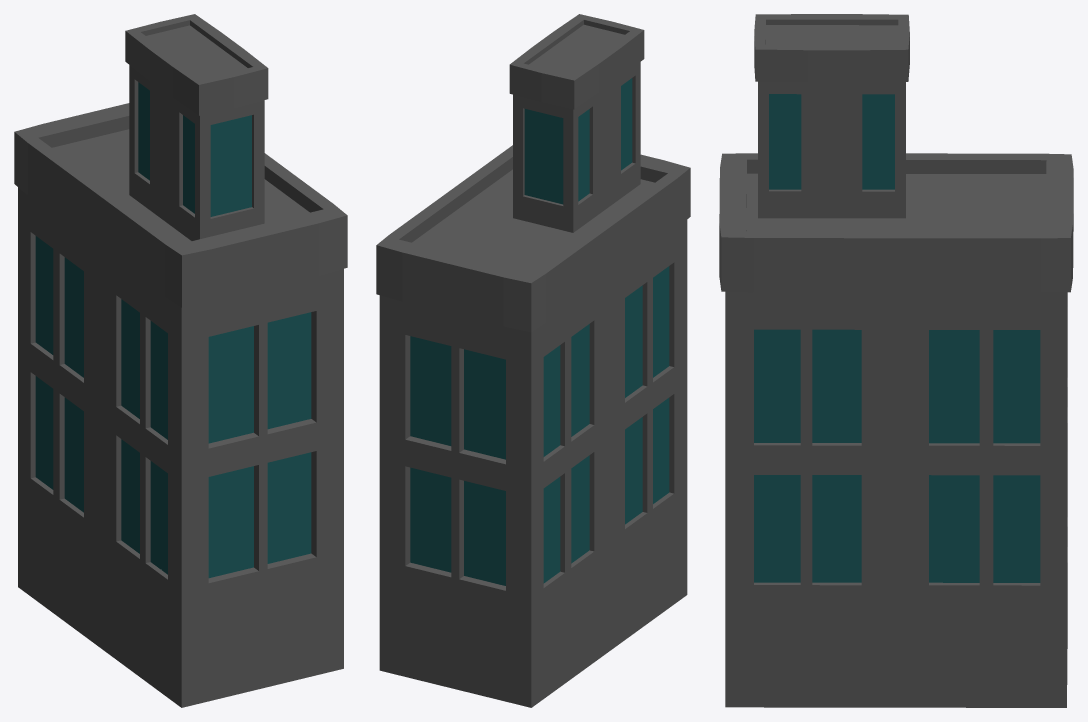
The model's file is building 10_jh_031725.fbx.
3 renders of one model, left to right at view 1: azimuth 30°, elevation 25°; view 2: azimuth 150°, elevation 25°; view 3: azimuth 270°, elevation 25°, orthographic. The views are drawn at different scales.
Parts seen in each view (by area): view 1: Cube.070, Cube.072, Cube.073, Cube.074; view 2: Cube.070, Cube.072, Cube.073, Cube.074; view 3: Cube.070, Cube.072, Cube.073, Cube.074.
Part boxes in pixels (x1,y1,x2,y2): Cube.070: [14, 103, 347, 707]; Cube.072: [35, 236, 311, 578]; Cube.073: [125, 14, 268, 240]; Cube.074: [138, 82, 251, 216]; Cube.070: [376, 145, 690, 707]; Cube.072: [410, 266, 669, 585]; Cube.073: [509, 14, 644, 232]; Cube.074: [524, 78, 632, 204]; Cube.070: [719, 153, 1073, 707]; Cube.072: [754, 329, 1040, 582]; Cube.073: [754, 14, 909, 218]; Cube.074: [769, 94, 894, 189].
Size of the model in its own units: 1136 by 3892 by 1993.
